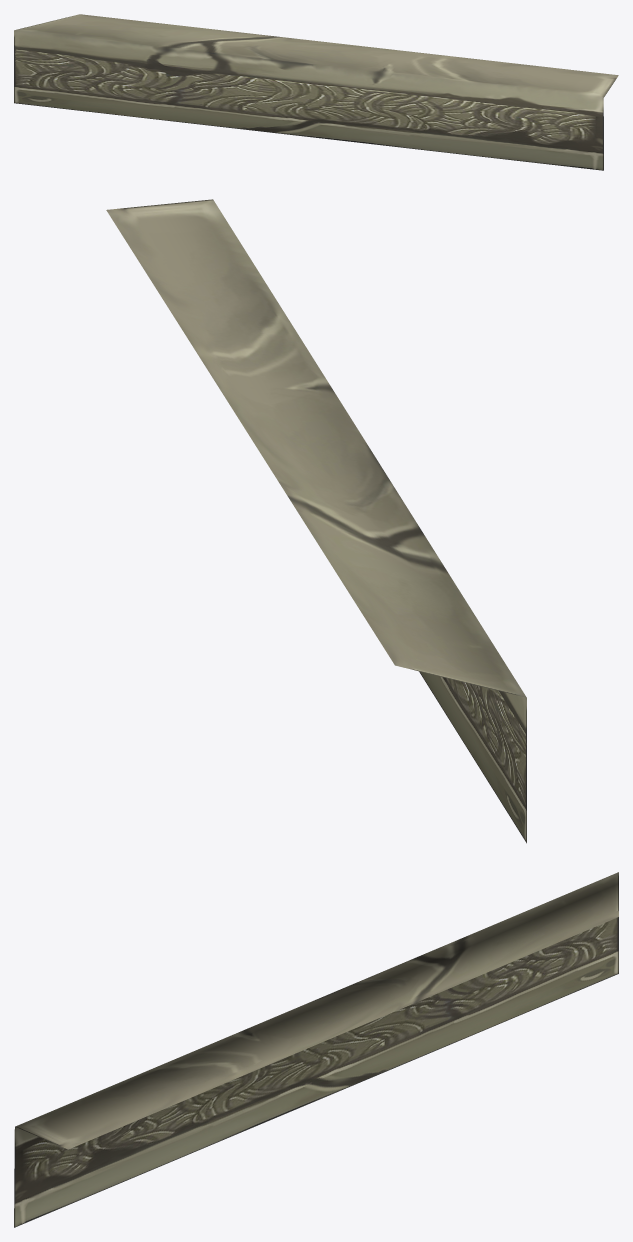
The model's file is wall_diagonal_base1.fbx.
The picture shows the model from 3 angles, top to bottom: view 1: azimuth 30°, elevation 25°; view 2: azimuth 150°, elevation 25°; view 3: azimuth 270°, elevation 25°; orthographic projection. The views are drawn at different scales.
Visible parts, largest first — view 1: diagonal1_v_base3; view 2: diagonal1_v_base3; view 3: diagonal1_v_base3.
Boxes of the visible parts, x1,y1,x2,y2 form: diagonal1_v_base3: (14, 14, 618, 170); diagonal1_v_base3: (106, 199, 526, 843); diagonal1_v_base3: (14, 872, 618, 1227).
Size of the model in its own units: 2.39 by 0.408 by 2.2.
